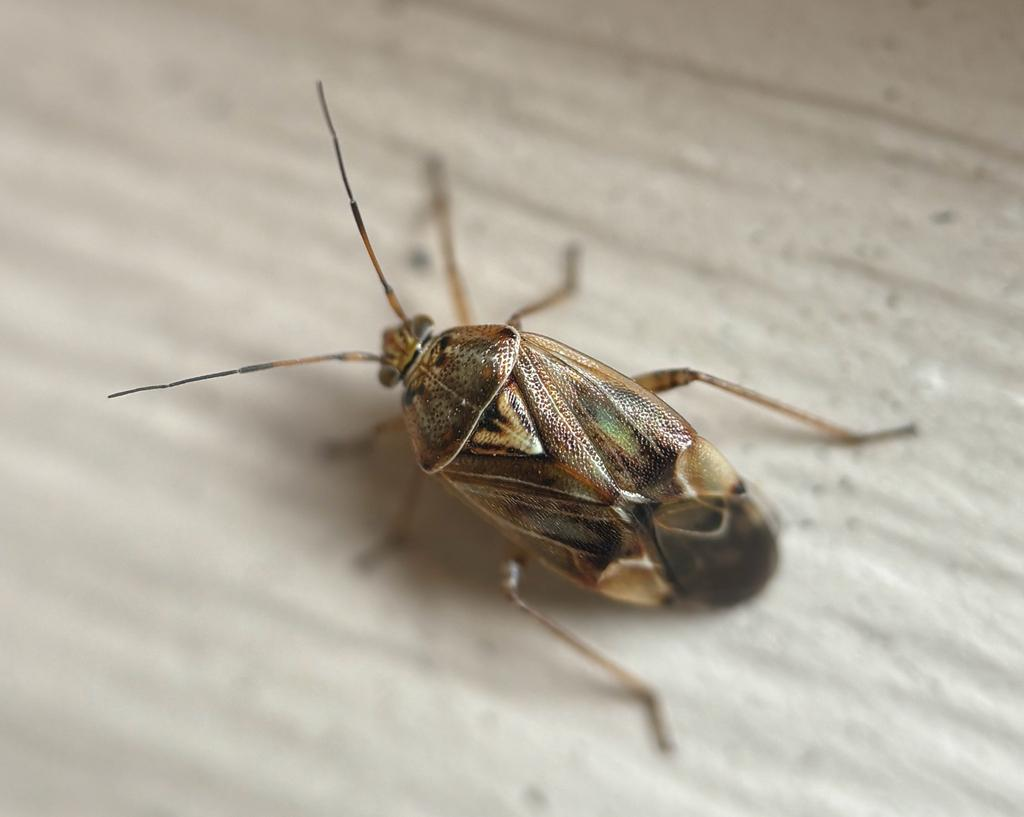plant_bugs: (75, 0, 975, 817)
